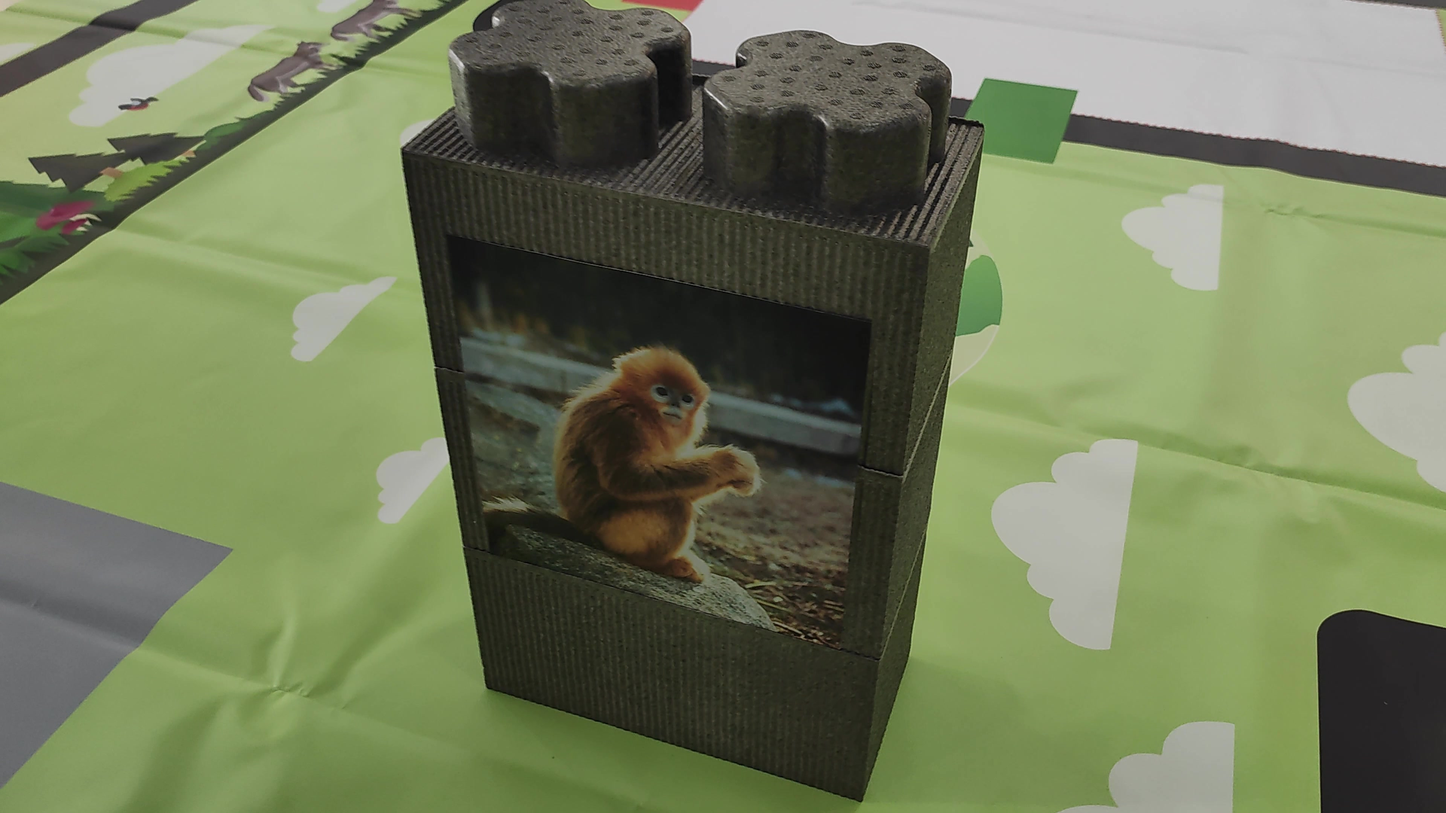monkey: (471, 266, 827, 610)
